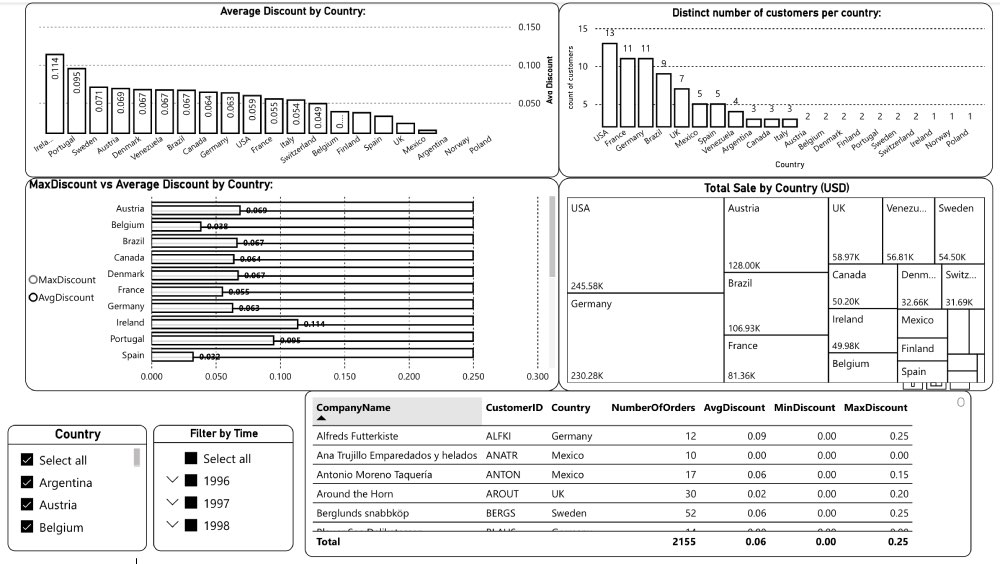

The dashboard page shown, as its layout file describes it:
{"tool":"powerbi","page":{"name":"Sales - Discounts","canvas":[1280,720],"ordinal":2},"visuals":[{"type":"columnChart","title":"Average Discount by Country:","fields":{"Category":["Customers_db_query.Country"],"Y":["FACT_OrderDetails.AvgDiscountPerCountry"]},"box":[22.3,0,693.3,226.8],"z":0},{"type":"slicer","title":"Filter by Time","fields":{"Values":["FACT_OrderDetails.OrderDate.Variation.Date Hierarchy.Year","FACT_OrderDetails.OrderDate.Variation.Date Hierarchy.Quarter","FACT_OrderDetails.OrderDate.Variation.Date Hierarchy.Month","FACT_OrderDetails.OrderDate.Variation.Date Hierarchy.Day"]},"box":[189.8,548.6,182,163.9],"z":1000},{"type":"slicer","title":"Country","fields":{"Values":["Customers_db_query.Country"]},"box":[0,548.6,181.1,163.9],"z":2000},{"type":"tableEx","fields":{"Values":["Customers_db_query.CompanyName","Customers_db_query.CustomerID","Customers_db_query.Country","FACT_OrderDetails.NumberOfOrders","FACT_OrderDetails.AvgDiscount","FACT_OrderDetails.MinDiscount","FACT_OrderDetails.MaxDiscount"]},"box":[385.9,503.9,865.3,216],"z":3000},{"type":"clusteredBarChart","title":"MaxDiscount vs Average Discount by Country:","fields":{"Category":["Customers_db_query.Country"],"Y":["FACT_OrderDetails.MaxDiscount","FACT_OrderDetails.AvgDiscount"]},"box":[22.3,226.8,693.3,277.2],"z":4000},{"type":"clusteredColumnChart","title":"Distinct number of customers per country:","fields":{"Category":["Customers_db_query.Country"],"Y":["Customers_db_query.DistinctCustomerCountPerCountry"]},"box":[715.9,0,564.1,226.8],"z":5000},{"type":"treemap","title":"Total Sale by Country (USD)","fields":{"Group":["Customers_db_query.Country"],"Values":["FACT_OrderDetails.TotSaleByCountry"]},"box":[715.6,226.8,564.4,277.2],"z":6000}]}

Visuals, with their boxes in screenshot pixels (x1, y1, x2, y2), scaled from the page's 1280x720 canvas onto the 1000x564 screenshot:
"Average Discount by Country:" columnChart: 17:0:559:178
"Filter by Time" slicer: 148:430:290:558
"Country" slicer: 0:430:141:558
tableEx - Customers_db_query.CompanyName x Customers_db_query.CustomerID: 301:395:977:563
"MaxDiscount vs Average Discount by Country:" clusteredBarChart: 17:178:559:395
"Distinct number of customers per country:" clusteredColumnChart: 559:0:999:178
"Total Sale by Country (USD)" treemap: 559:178:999:395
